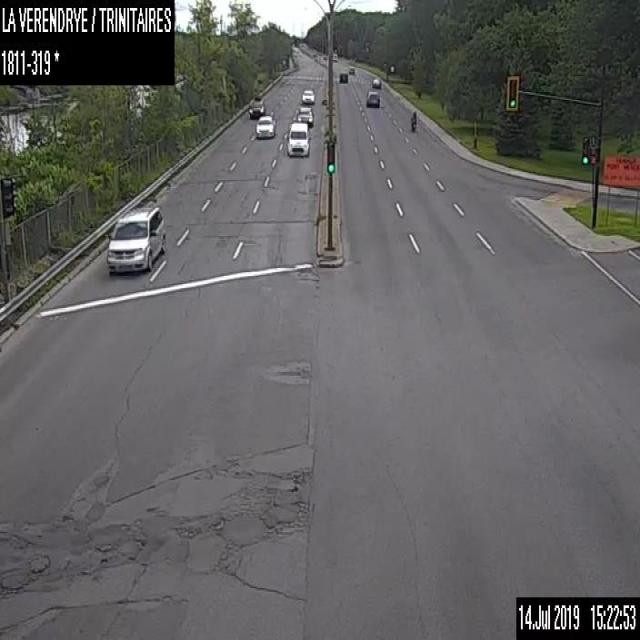vehicle: (105, 201, 167, 275), (286, 120, 312, 156), (255, 113, 276, 137), (247, 95, 265, 118), (297, 105, 313, 126), (366, 88, 380, 105), (409, 109, 417, 133), (301, 89, 314, 102), (338, 71, 348, 82), (372, 76, 381, 87), (348, 65, 354, 74), (332, 52, 337, 61)
